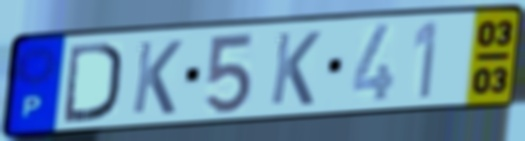1: (411, 18, 441, 104)
4: (349, 21, 398, 106)
5: (201, 29, 258, 116)
D: (61, 39, 124, 125)
K: (267, 29, 324, 108), (128, 38, 185, 117)
